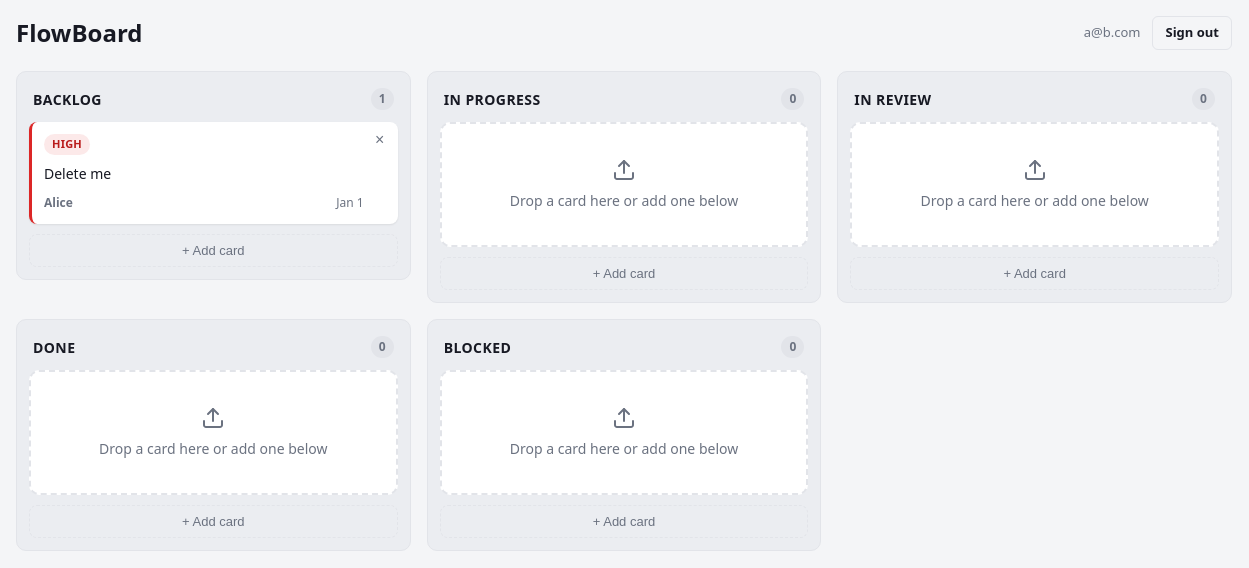
Scenario: Board › deletes a card
Click the button named "Delete Delete me" at (380, 140), box x1=368 y1=128 x2=392 y2=152
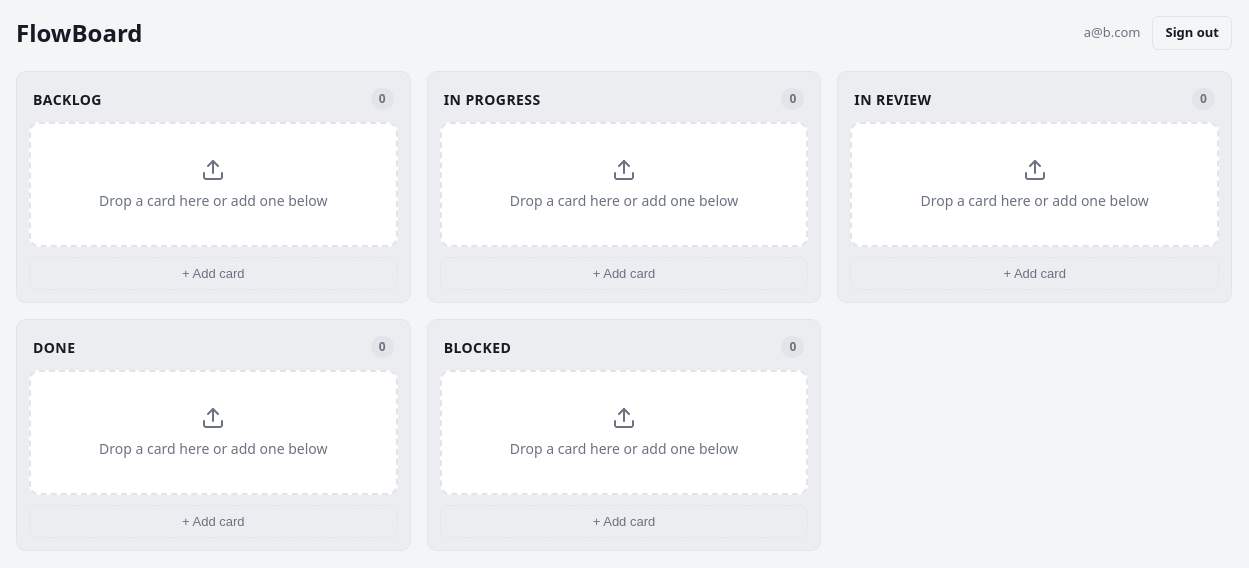
Now the button "Delete me" is gone
